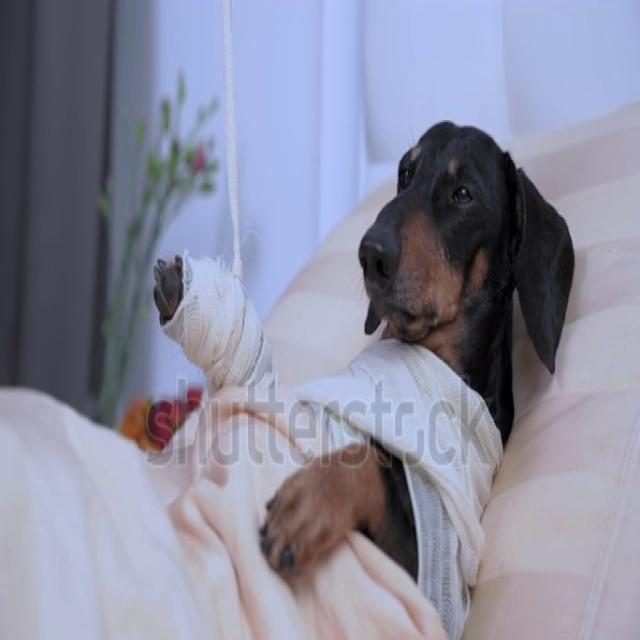injured-animals: (125, 63, 640, 640)
